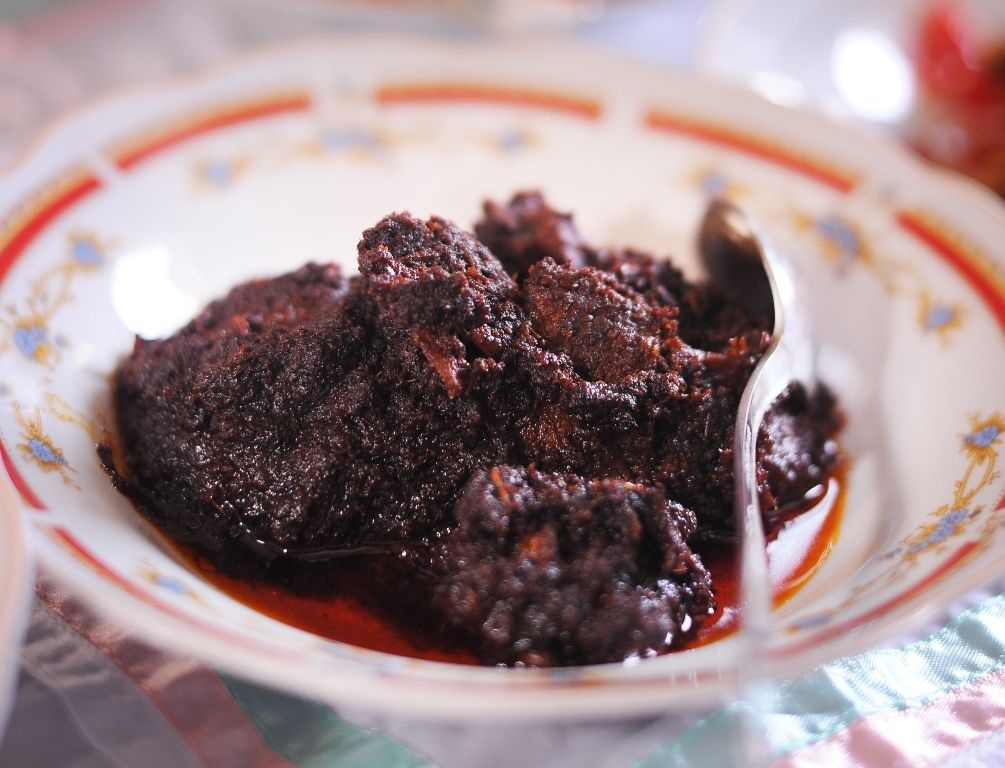rendang: (42, 180, 736, 661)
